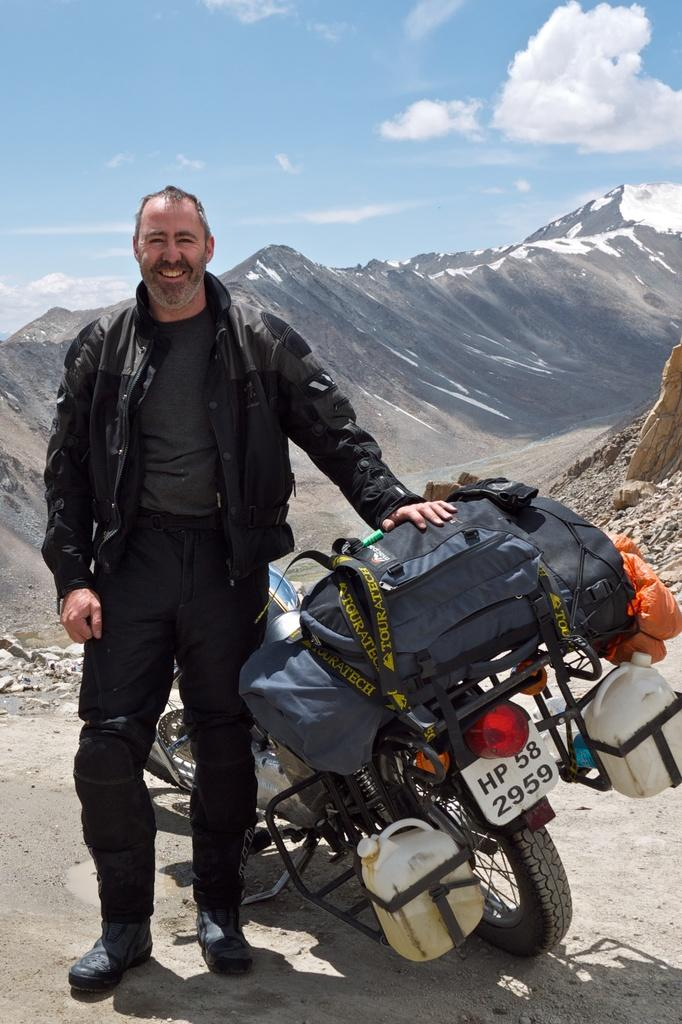Luggage-and-bags: (285, 467, 631, 708)
